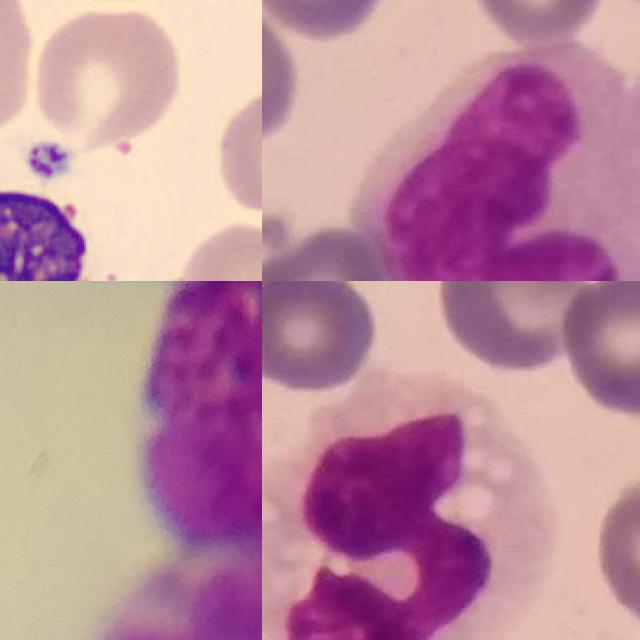Basophil: (144, 281, 262, 585)
Monocyte: (262, 375, 551, 640), (359, 39, 640, 281)
Platelets: (21, 138, 76, 182)
RBC: (31, 2, 184, 152), (206, 81, 262, 222), (171, 217, 262, 281), (0, 0, 38, 135)
